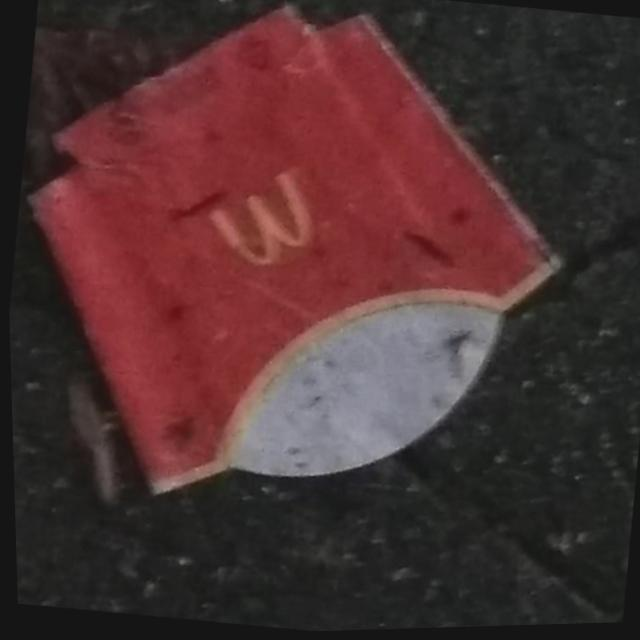Paper: (0, 0, 599, 554)
